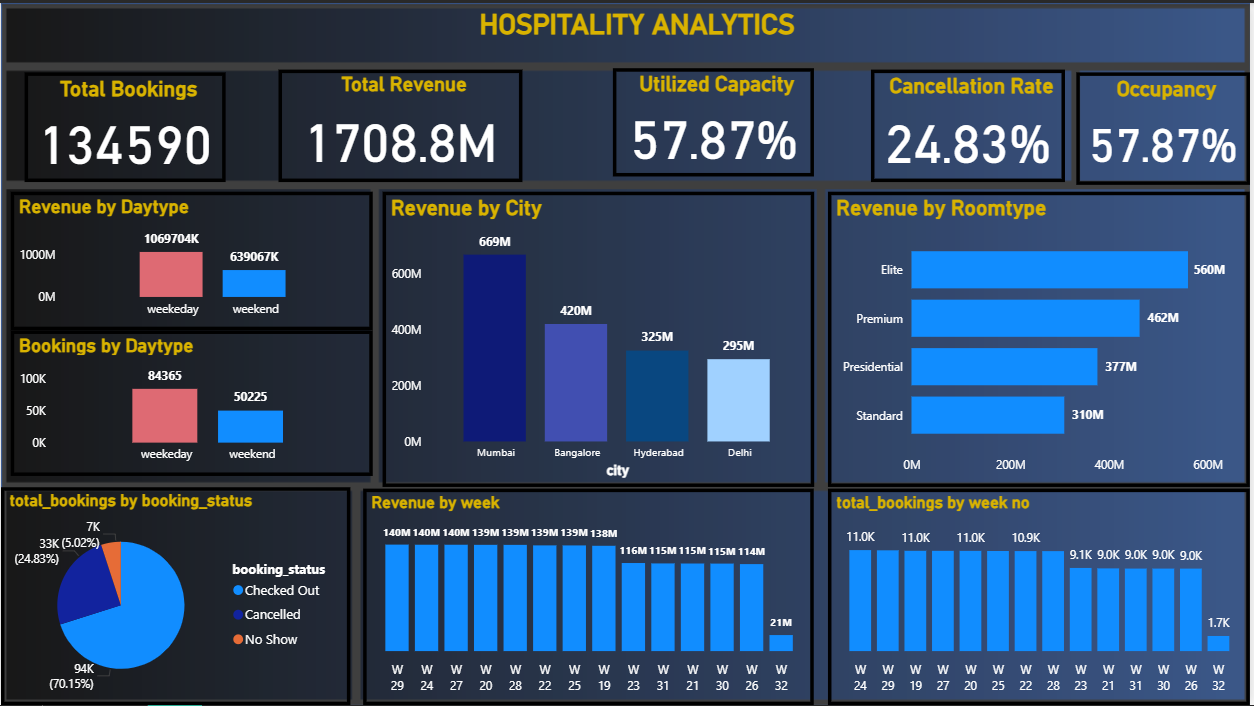

Layout of this report page (visuals, bound fields, positions):
{"tool":"powerbi","page":{"name":"Page 1","canvas":[1280,720],"ordinal":0},"visuals":[{"type":"card","title":"Total Revenue","fields":{"Values":["Sum(fact_bookings.revenue_realized)"]},"box":[284.5,68.3,250.4,115.2],"z":0},{"type":"card","title":"Occupancy","fields":{"Values":["select","Sum(fact_aggregated_bookings.successful_bookings)","Sum(fact_aggregated_bookings.capacity)"]},"box":[1102.4,71.1,177.8,115.2],"z":1000},{"type":"textbox","box":[470.8,0,362.7,55.5],"z":2000},{"type":"card","title":"Cancellation Rate","fields":{"Values":["dim_date.Cancellation_rate"]},"box":[891.9,68.3,199.1,115.2],"z":3000},{"type":"card","title":"Total Bookings","fields":{"Values":["dim_date.total_bookings"]},"box":[24.2,71.1,206.3,112.4],"z":4000},{"type":"card","title":"Utilized Capacity","fields":{"Values":["dim_date.utilized capacity"]},"box":[627.3,66.9,206.3,111],"z":5000},{"type":"clusteredColumnChart","title":"Revenue by Daytype","fields":{"Category":["dim_date.day_type"],"Y":["Sum(fact_bookings.revenue_realized)"]},"box":[10,193.5,371.3,142.2],"z":6000},{"type":"clusteredColumnChart","title":"Bookings by Daytype","fields":{"Category":["dim_date.day_type"],"Y":["dim_date.total_bookings"]},"box":[10,335.7,371.3,149.4],"z":7000},{"type":"clusteredColumnChart","title":"Revenue by City","fields":{"Y":["Sum(fact_bookings.revenue_realized)"],"Category":["dim_hotels.city"]},"box":[391.2,193.5,442.4,303],"z":8000},{"type":"clusteredBarChart","title":"Revenue by Roomtype","fields":{"Category":["dim_rooms.room_class"],"Y":["Sum(fact_bookings.revenue_realized)"]},"box":[847.8,193.5,432.4,303],"z":9000},{"type":"pieChart","fields":{"Category":["fact_bookings.booking_status"],"Y":["dim_date.total_bookings"]},"box":[0,496.4,358.5,223.3],"z":10000},{"type":"clusteredColumnChart","title":"Revenue by week ","fields":{"Category":["dim_date.week no"],"Y":["Sum(fact_bookings.revenue_realized)"]},"box":[371.3,497.9,462.3,221.9],"z":11000},{"type":"clusteredColumnChart","fields":{"Category":["dim_date.week no"],"Y":["dim_date.total_bookings"]},"box":[847.8,497.9,432.4,221.9],"z":12000}]}

Visuals, with their boxes in screenshot pixels (x1, y1, x2, y2), scaled from the page's 1280x720 canvas onto the 1254x706 screenshot:
"Total Revenue" card: [left=279, top=67, right=524, bottom=180]
"Occupancy" card: [left=1080, top=70, right=1253, bottom=183]
textbox: [left=461, top=0, right=817, bottom=54]
"Cancellation Rate" card: [left=874, top=67, right=1069, bottom=180]
"Total Bookings" card: [left=24, top=70, right=226, bottom=180]
"Utilized Capacity" card: [left=615, top=66, right=817, bottom=174]
"Revenue by Daytype" clusteredColumnChart: [left=10, top=190, right=374, bottom=329]
"Bookings by Daytype" clusteredColumnChart: [left=10, top=329, right=374, bottom=476]
"Revenue by City" clusteredColumnChart: [left=383, top=190, right=817, bottom=487]
"Revenue by Roomtype" clusteredBarChart: [left=831, top=190, right=1253, bottom=487]
pieChart - fact_bookings.booking_status x dim_date.total_bookings: [left=0, top=487, right=351, bottom=705]
"Revenue by week " clusteredColumnChart: [left=364, top=488, right=817, bottom=705]
clusteredColumnChart - dim_date.week no x dim_date.total_bookings: [left=831, top=488, right=1253, bottom=705]
